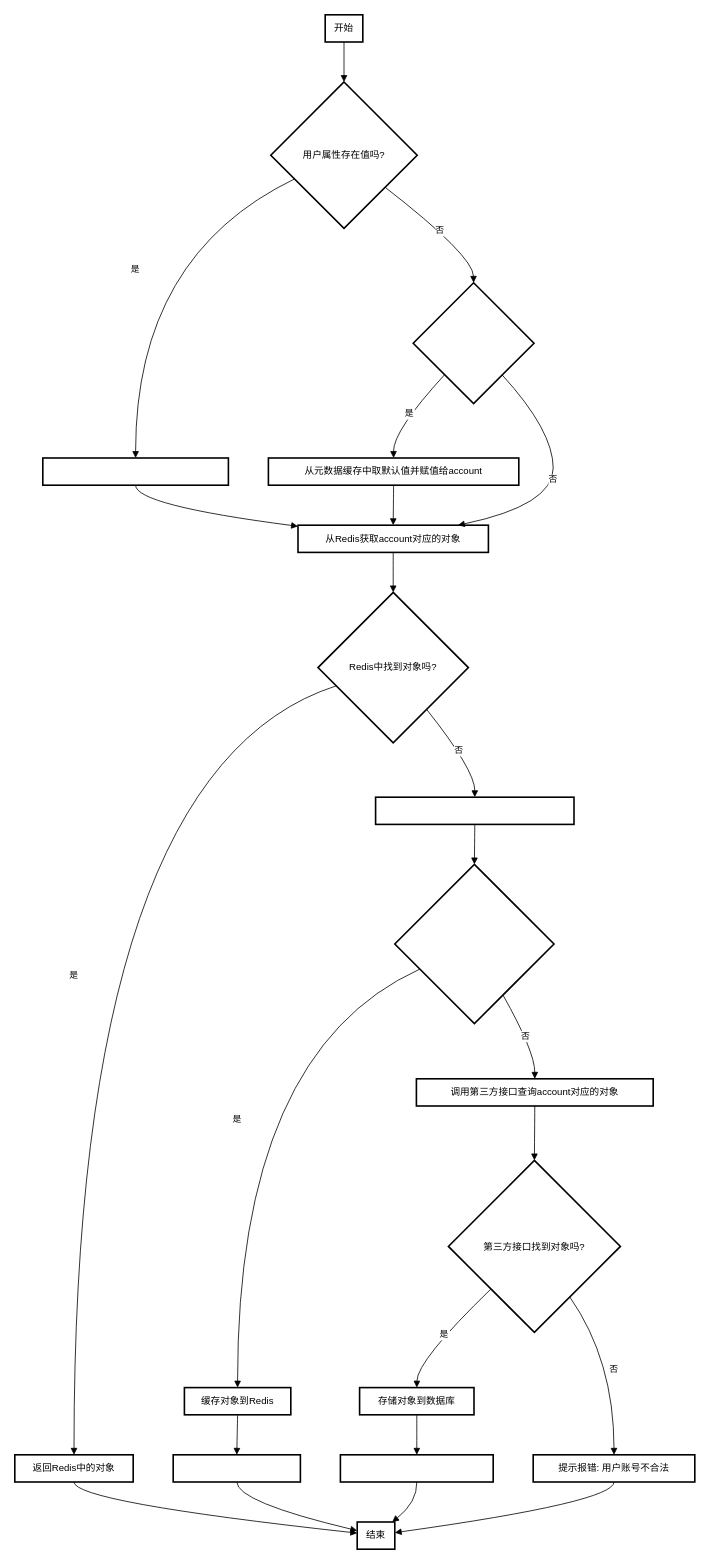
The diagram is 709 pixels wide and 1563 high, and some of its shapes have lost their labels. Here are the shapes that lost their labels. From the top down, the centre of each, then its label:
At (473,343): "存在默认值吗?".
At (135,471): "使用传入的值并赋值给account".
At (474,810): "从数据库查找account对应的对象".
At (474,943): "数据库中找到对象吗?".
At (236,1468): "返回数据库中的对象".
At (416,1468): "返回第三方接口中的对象".
